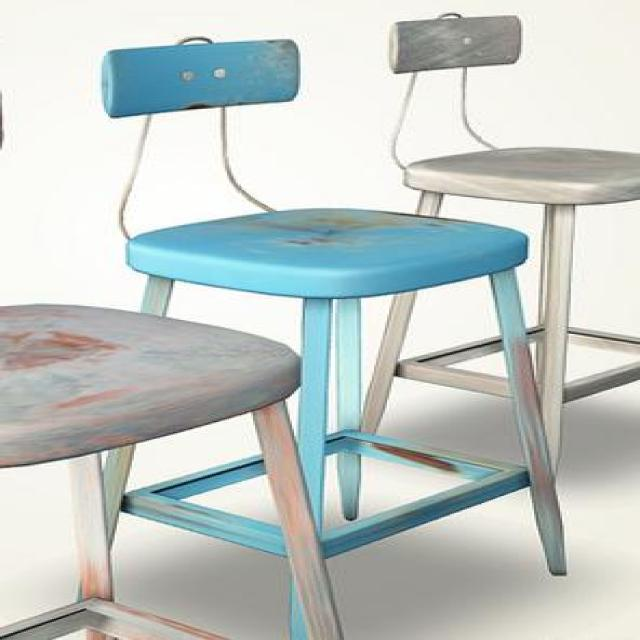chair: (98, 35, 566, 590)
